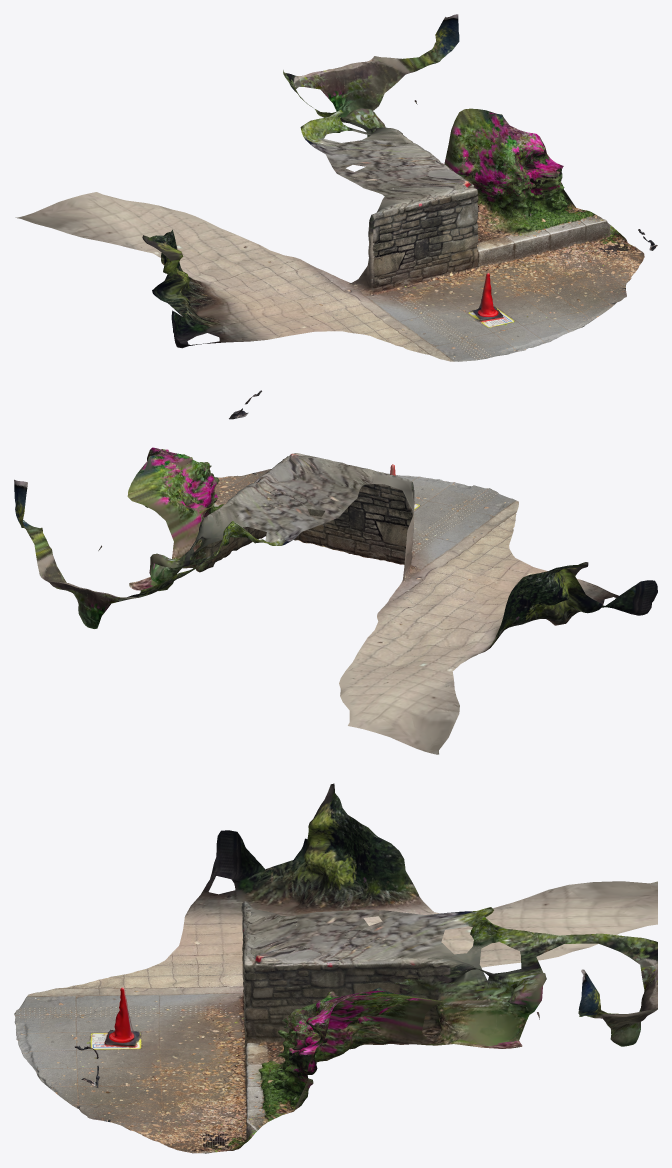
The picture shows the model from 3 angles, top to bottom: view 1: azimuth 30°, elevation 25°; view 2: azimuth 150°, elevation 25°; view 3: azimuth 270°, elevation 25°; orthographic projection. The views are drawn at different scales.
Visible parts, largest first — view 1: baked_mesh_0fc25dee; view 2: baked_mesh_0fc25dee; view 3: baked_mesh_0fc25dee.
Boxes of the visible parts, x1,y1,x2,y2 form: baked_mesh_0fc25dee: [15, 14, 657, 361]; baked_mesh_0fc25dee: [14, 390, 657, 754]; baked_mesh_0fc25dee: [14, 783, 657, 1153].
Size of the model in its own units: 2.82 by 0.764 by 2.76.
Materials: 1 (1 with a texture image).
